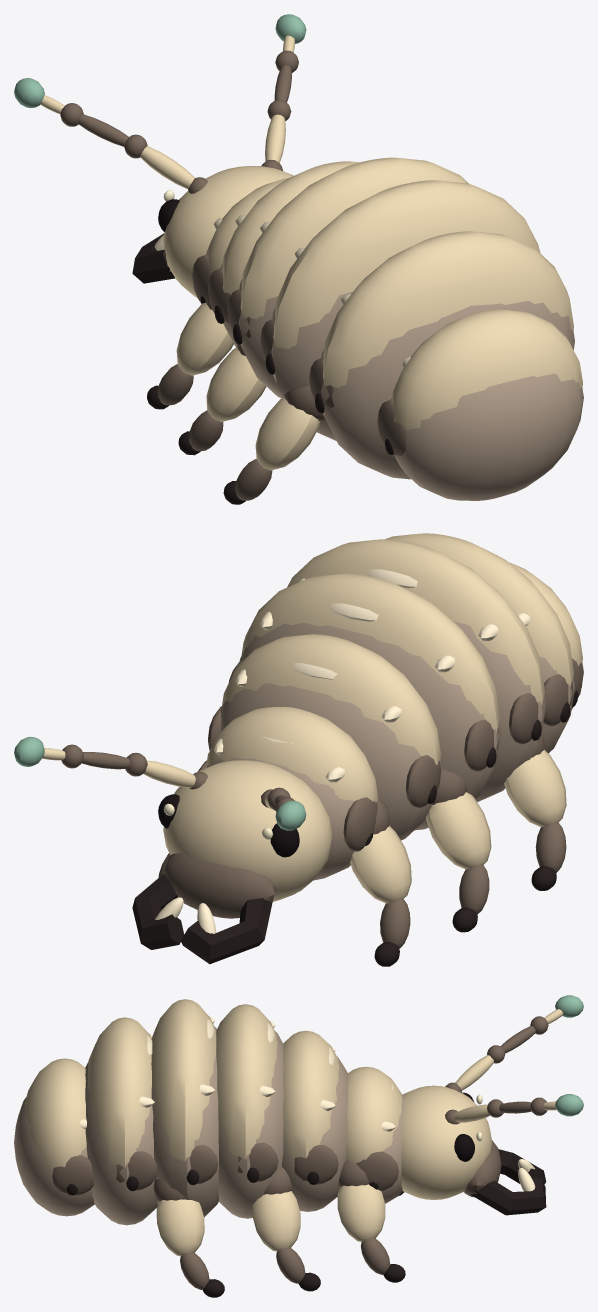
The model's file is insect_grub.glb.
The picture shows the model from 3 angles, top to bottom: view 1: azimuth 30°, elevation 25°; view 2: azimuth 150°, elevation 25°; view 3: azimuth 270°, elevation 25°; orthographic projection. The views are drawn at different scales.
Visible parts, largest first — view 1: abdomen_5_mesh, abdomen_4_mesh, abdomen_3_mesh, abdomen_2_mesh, head_mesh, abdomen_1_mesh, leg_l2_hip_mesh, leg_l1_hip_mesh, leg_l0_hip_mesh, abdomen_0_mesh, antenna_l_2_mesh, jaw_l_mesh (+8 smaller); view 2: abdomen_2_mesh, abdomen_1_mesh, head_mesh, abdomen_3_mesh, abdomen_0_mesh, abdomen_4_mesh, leg_l1_hip_mesh, leg_l0_hip_mesh, leg_l2_hip_mesh, jaw_l_mesh, jaw_r_mesh, abdomen_5_mesh (+7 smaller); view 3: abdomen_4_mesh, abdomen_2_mesh, abdomen_3_mesh, abdomen_1_mesh, abdomen_5_mesh, head_mesh, abdomen_0_mesh, leg_r0_hip_mesh, leg_r1_hip_mesh, leg_r2_hip_mesh, jaw_r_mesh, antenna_l_2_mesh (+9 smaller).
Part boxes in pixels (bbox=[...]): abdomen_5_mesh: bbox=[377, 309, 583, 500]; abdomen_4_mesh: bbox=[309, 231, 574, 479]; abdomen_3_mesh: bbox=[260, 180, 540, 440]; abdomen_2_mesh: bbox=[227, 157, 468, 398]; head_mesh: bbox=[158, 166, 293, 297]; abdomen_1_mesh: bbox=[208, 161, 359, 347]; leg_l2_hip_mesh: bbox=[255, 386, 325, 470]; leg_l1_hip_mesh: bbox=[206, 344, 266, 421]; leg_l0_hip_mesh: bbox=[176, 289, 233, 375]; abdomen_0_mesh: bbox=[192, 177, 289, 303]; antenna_l_2_mesh: bbox=[14, 78, 83, 126]; jaw_l_mesh: bbox=[132, 233, 174, 283]; abdomen_2_mesh: bbox=[228, 573, 501, 830]; abdomen_1_mesh: bbox=[208, 634, 441, 840]; head_mesh: bbox=[158, 760, 332, 918]; abdomen_3_mesh: bbox=[287, 539, 545, 801]; abdomen_0_mesh: bbox=[197, 706, 378, 880]; abdomen_4_mesh: bbox=[385, 533, 574, 753]; leg_l1_hip_mesh: bbox=[426, 769, 491, 869]; leg_l0_hip_mesh: bbox=[350, 797, 411, 903]; leg_l2_hip_mesh: bbox=[504, 732, 566, 827]; jaw_l_mesh: bbox=[181, 898, 273, 964]; jaw_r_mesh: bbox=[132, 874, 184, 949]; abdomen_5_mesh: bbox=[509, 562, 583, 709]; abdomen_4_mesh: bbox=[85, 1017, 157, 1225]; abdomen_2_mesh: bbox=[216, 1004, 283, 1218]; abdomen_3_mesh: bbox=[151, 999, 218, 1217]; abdomen_1_mesh: bbox=[282, 1030, 348, 1211]; abdomen_5_mesh: bbox=[14, 1058, 94, 1216]; head_mesh: bbox=[401, 1085, 501, 1199]; abdomen_0_mesh: bbox=[345, 1066, 403, 1203]; leg_r0_hip_mesh: bbox=[337, 1160, 385, 1241]; leg_r1_hip_mesh: bbox=[252, 1167, 300, 1251]; leg_r2_hip_mesh: bbox=[153, 1179, 204, 1256]; jaw_r_mesh: bbox=[471, 1168, 546, 1215]; antenna_l_2_mesh: bbox=[530, 995, 583, 1034].
Bounding box in the file's own units: 1.56 × 1.33 × 3.03.
